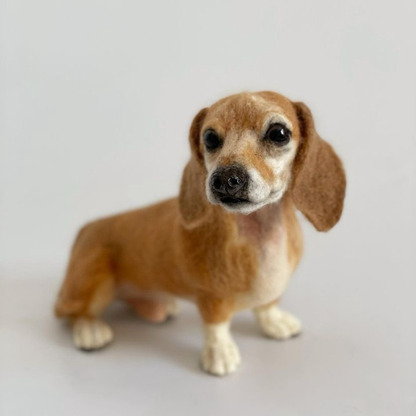dachshund: (34, 67, 373, 377)
